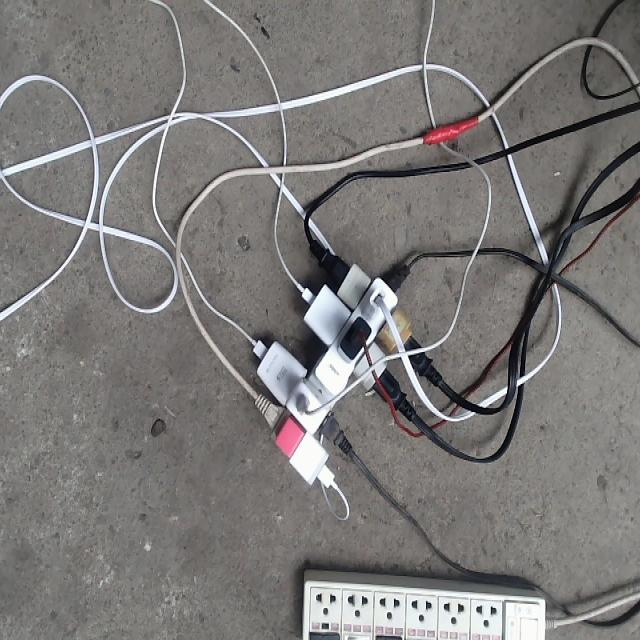-: (246, 246, 407, 482)
